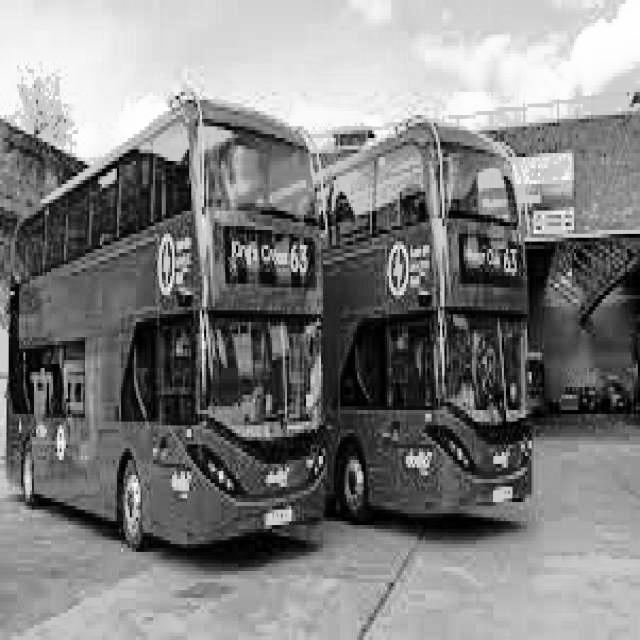Bus: (2, 92, 328, 540), (322, 124, 535, 512)
